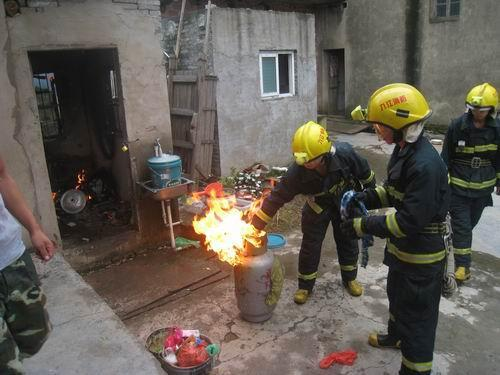fire: (190, 188, 251, 266)
